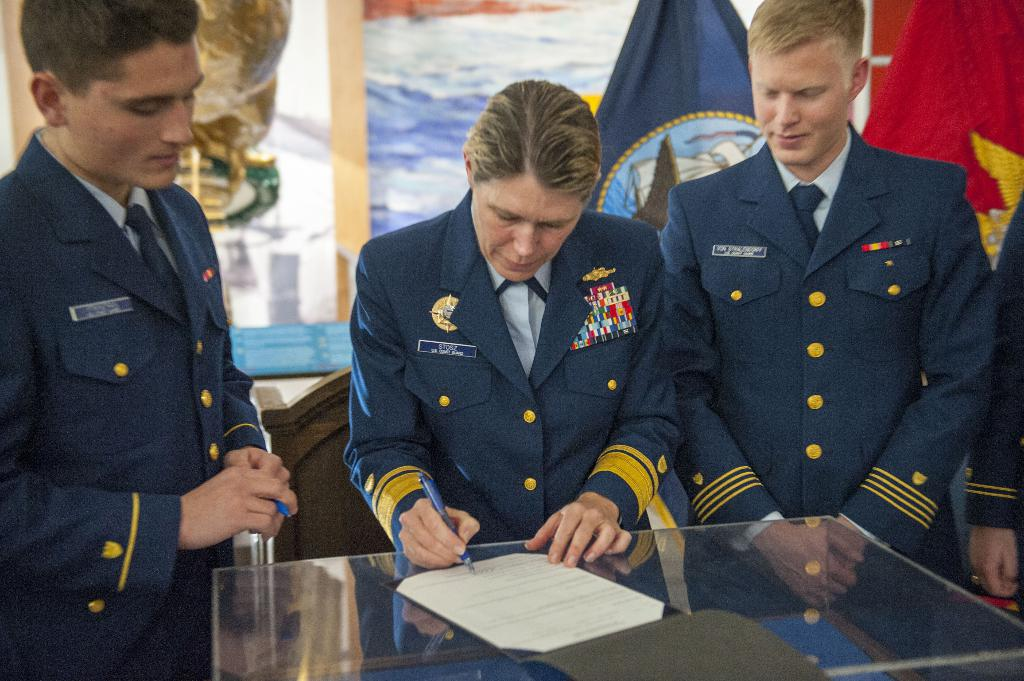Person: (656, 0, 997, 620), (0, 0, 301, 677), (340, 76, 685, 656), (963, 188, 1024, 620)
